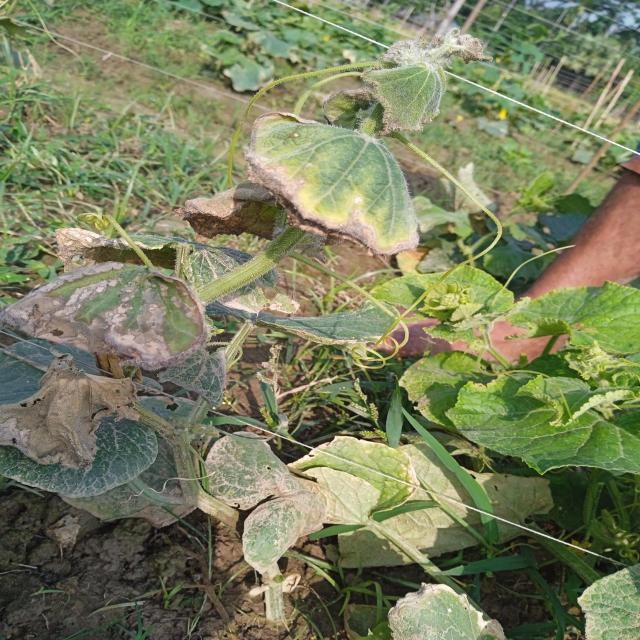cucumber_bacterial: (253, 109, 422, 263), (0, 258, 211, 373), (6, 390, 165, 513), (187, 436, 326, 571), (366, 13, 468, 147), (0, 368, 134, 465), (172, 181, 290, 244)
